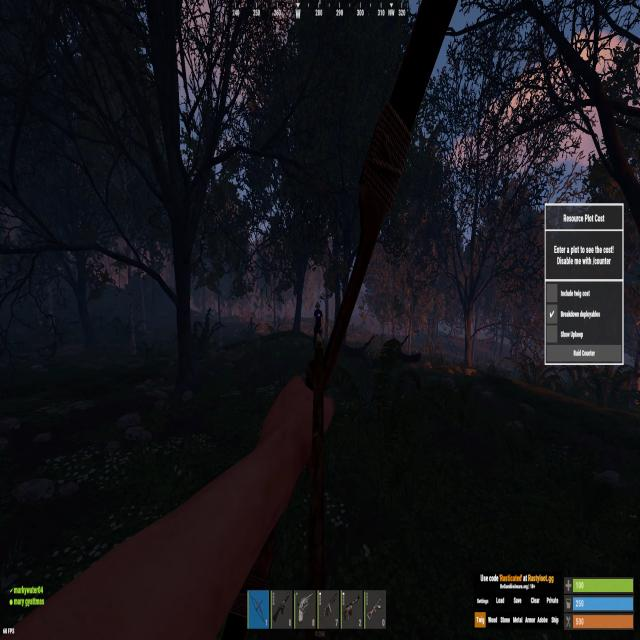Player: (312, 302, 324, 354)
